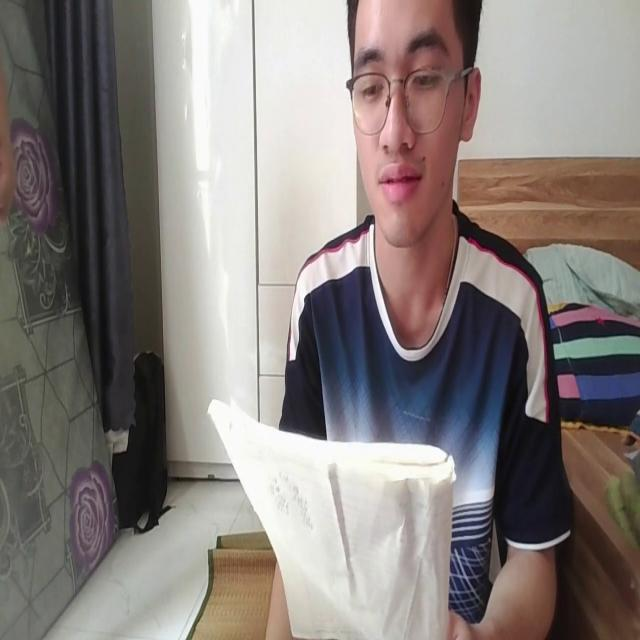book: (206, 388, 456, 640)
student: (267, 6, 563, 640)
